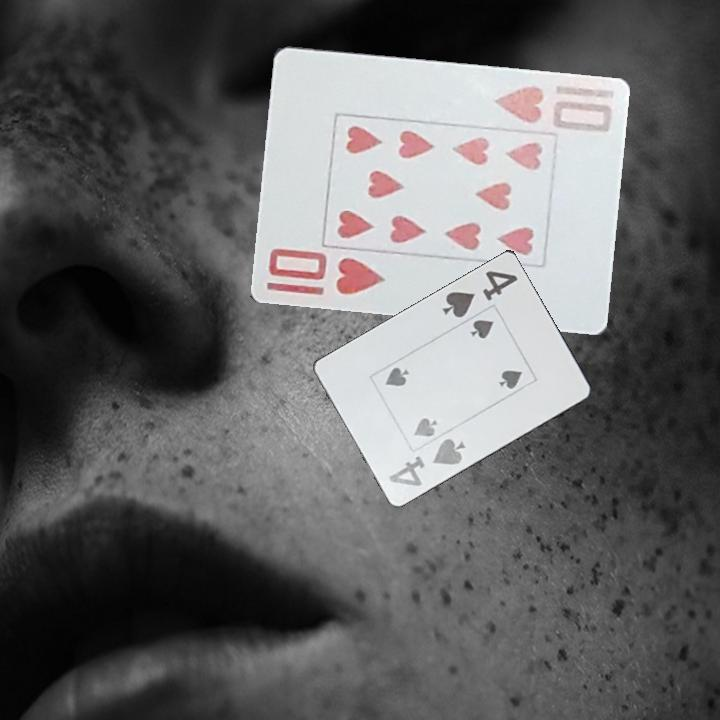4s: (436, 266, 521, 320), (385, 434, 467, 489)
Th: (489, 82, 616, 136), (264, 245, 388, 298)
